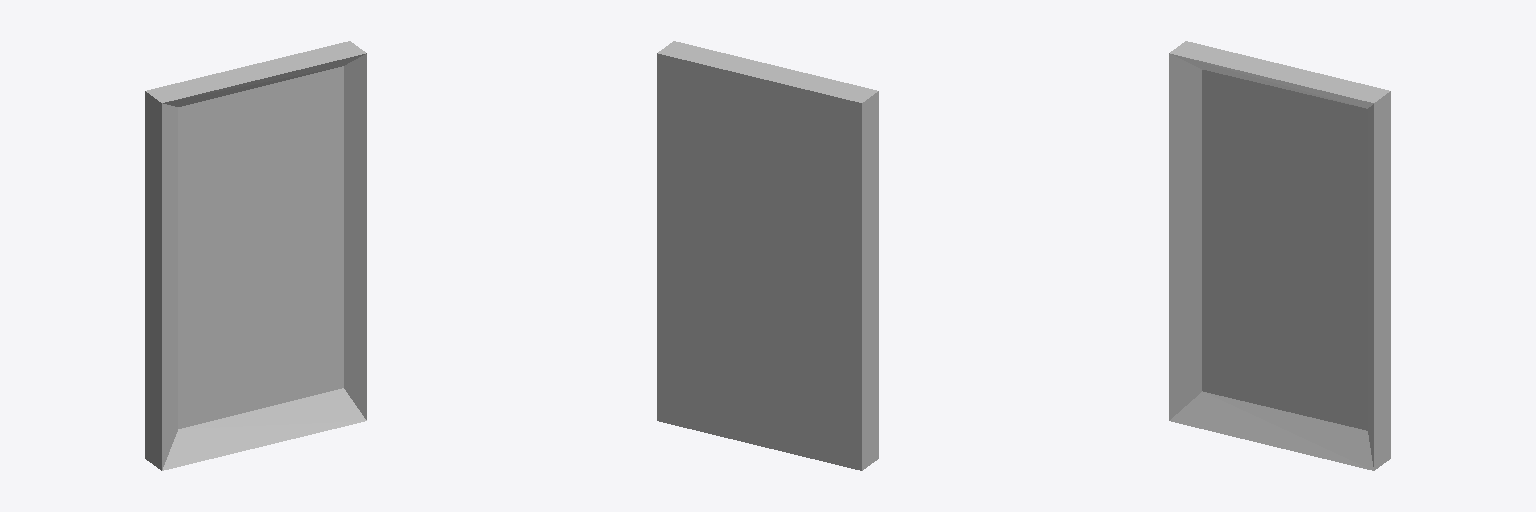
The model's file is oldpainting2.obj.
3 renders of one model, left to right at view 1: azimuth 30°, elevation 25°; view 2: azimuth 150°, elevation 25°; view 3: azimuth 330°, elevation 25°, orthographic.
Visible parts, largest first — view 1: Regroup24; view 2: Regroup24; view 3: Regroup24.
Part boxes in pixels (left/top/right/bottom): Regroup24: left=145, top=41, right=366, bottom=470; Regroup24: left=657, top=41, right=878, bottom=470; Regroup24: left=1169, top=41, right=1390, bottom=470.
Bounding box in the file's own units: 13.98 × 23.97 × 2.